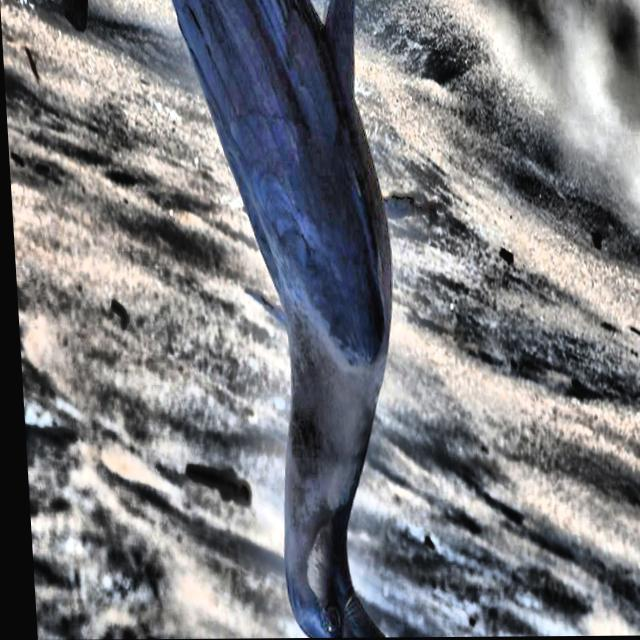crow: (150, 0, 445, 639)
